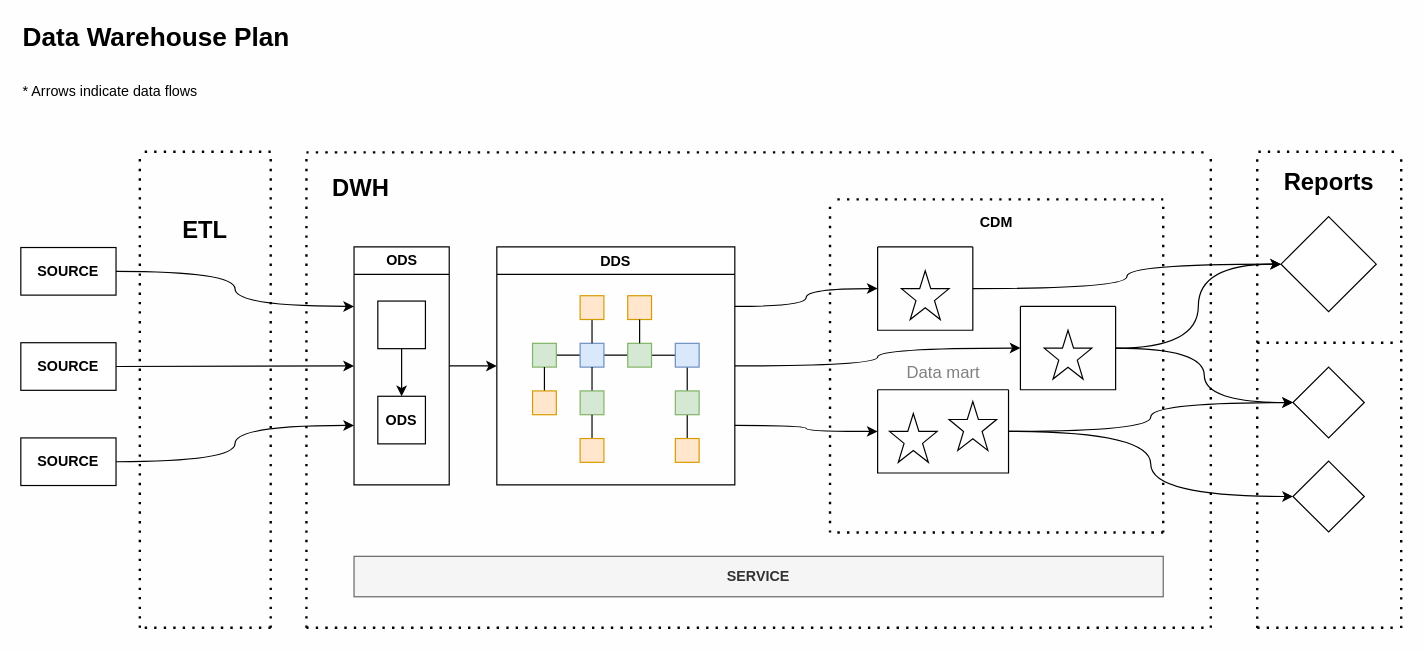
Some shapes in this 1424 by 651 pixel diagram are drawn without their labels. The shapes that lost their labels are listed below. From the top down, each one's centre as x and y in pixels, then its label:
At point 1328,263: "Плоские отчёты".
At point 401,324: "STG".
At point 1328,402: "BI".
At point 1328,496: "Куб".
